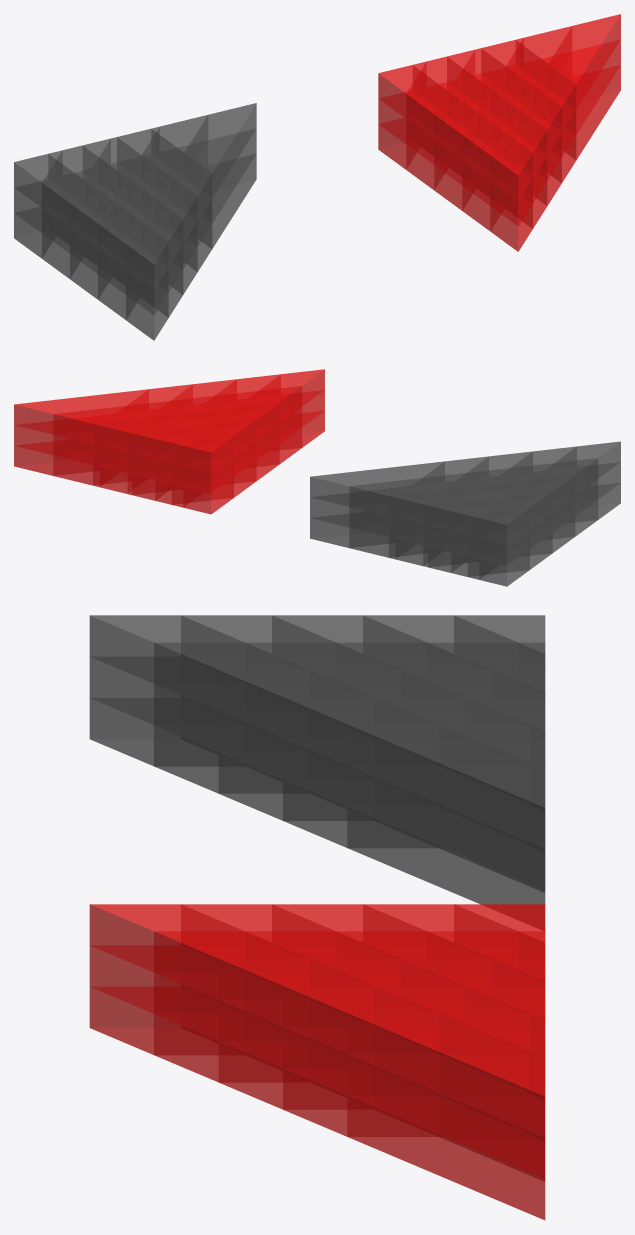
Rendered from Elements_Spatial_CellComplex_Serialization.glb.
3 views of the same model, one above another, from view 1: azimuth 30°, elevation 25°; view 2: azimuth 150°, elevation 25°; view 3: azimuth 270°, elevation 25° (orthographic). The views are drawn at different scales.
Visible parts, largest first — view 1: e4d5c8aa-01d7-4d28-95e4-11399ef93405_mesh, dad1de7e-0cb8-41cc-924f-251fbcd497fb_mesh, 2aa42397-048d-482f-854a-d5a3d99ed0bd_mesh, 3f16b0a3-ca01-451b-9d7c-0c4887617dc5_mesh, 7be73eec-b3d1-417d-8776-409addead193_mesh, b10e2be0-7715-41f9-a394-cac2937e3d9f_mesh, b778b9dc-4b3d-487a-9391-8c0a4c4b534e_mesh, 3b9fe1ae-8d29-4308-96e0-60f46bb77c62_mesh, 65f17673-047f-45be-bd58-b62c0768bc1d_mesh, 79738f5b-8642-4496-acfa-0e3bb97c4be8_mesh, 2dde2cfb-9650-4c7b-abae-d3e3957c964e_mesh, b13cf715-2f56-4611-9ba4-2bcb48121d2f_mesh (+122 smaller); view 2: 2dde2cfb-9650-4c7b-abae-d3e3957c964e_mesh, b13cf715-2f56-4611-9ba4-2bcb48121d2f_mesh, dad1de7e-0cb8-41cc-924f-251fbcd497fb_mesh, e4d5c8aa-01d7-4d28-95e4-11399ef93405_mesh, 2181d326-c104-43ea-8148-ed3e57d4df3f_mesh, 7b658dc2-4ed2-4b35-9fd0-d005eb027f1e_mesh, c6826c9e-1fd2-4056-b1b4-02c6869c6f5f_mesh, 0f73b839-daa0-4e07-a814-52f9c7183552_mesh, 21e804da-b728-465d-affa-cdf320d5f043_mesh, c14babd9-aa63-4fb5-8b03-bbbd38d783c0_mesh, 746344e8-de2f-4fc3-9825-49fac00f22c6_mesh, d484438f-89f5-4d8e-9ccd-c492db782908_mesh (+159 smaller); view 3: 3b9fe1ae-8d29-4308-96e0-60f46bb77c62_mesh, 2dde2cfb-9650-4c7b-abae-d3e3957c964e_mesh, b13cf715-2f56-4611-9ba4-2bcb48121d2f_mesh, 79738f5b-8642-4496-acfa-0e3bb97c4be8_mesh, 65f17673-047f-45be-bd58-b62c0768bc1d_mesh, b778b9dc-4b3d-487a-9391-8c0a4c4b534e_mesh, e4d5c8aa-01d7-4d28-95e4-11399ef93405_mesh, dad1de7e-0cb8-41cc-924f-251fbcd497fb_mesh, 2aa42397-048d-482f-854a-d5a3d99ed0bd_mesh, 45b2ae97-7e96-46b7-935d-fa0c843ecbca_mesh, f68b9eff-fab6-4033-8fc4-3e5ad00b2baa_mesh, fe83ae7e-f485-4742-a042-82a1fbf6b827_mesh (+162 smaller).
Part boxes in pixels (<box>): e4d5c8aa-01d7-4d28-95e4-11399ef93405_mesh: <box>184,103,256,172</box>; dad1de7e-0cb8-41cc-924f-251fbcd497fb_mesh: <box>548,14,620,83</box>; 2aa42397-048d-482f-854a-d5a3d99ed0bd_mesh: <box>560,40,619,108</box>; 3f16b0a3-ca01-451b-9d7c-0c4887617dc5_mesh: <box>195,129,255,197</box>; 7be73eec-b3d1-417d-8776-409addead193_mesh: <box>208,103,256,139</box>; b10e2be0-7715-41f9-a394-cac2937e3d9f_mesh: <box>572,14,620,50</box>; b778b9dc-4b3d-487a-9391-8c0a4c4b534e_mesh: <box>212,154,256,248</box>; 3b9fe1ae-8d29-4308-96e0-60f46bb77c62_mesh: <box>576,40,620,134</box>; 65f17673-047f-45be-bd58-b62c0768bc1d_mesh: <box>576,65,620,159</box>; 79738f5b-8642-4496-acfa-0e3bb97c4be8_mesh: <box>212,129,256,222</box>; 2dde2cfb-9650-4c7b-abae-d3e3957c964e_mesh: <box>576,14,620,108</box>; b13cf715-2f56-4611-9ba4-2bcb48121d2f_mesh: <box>212,104,256,197</box>; 2dde2cfb-9650-4c7b-abae-d3e3957c964e_mesh: <box>14,389,147,424</box>; b13cf715-2f56-4611-9ba4-2bcb48121d2f_mesh: <box>310,462,443,496</box>; dad1de7e-0cb8-41cc-924f-251fbcd497fb_mesh: <box>14,389,148,413</box>; e4d5c8aa-01d7-4d28-95e4-11399ef93405_mesh: <box>311,461,444,486</box>; 2181d326-c104-43ea-8148-ed3e57d4df3f_mesh: <box>349,478,421,506</box>; 7b658dc2-4ed2-4b35-9fd0-d005eb027f1e_mesh: <box>53,406,125,434</box>; c6826c9e-1fd2-4056-b1b4-02c6869c6f5f_mesh: <box>486,508,529,533</box>; 0f73b839-daa0-4e07-a814-52f9c7183552_mesh: <box>190,436,233,460</box>; 21e804da-b728-465d-affa-cdf320d5f043_mesh: <box>53,455,92,485</box>; c14babd9-aa63-4fb5-8b03-bbbd38d783c0_mesh: <box>349,507,388,536</box>; 746344e8-de2f-4fc3-9825-49fac00f22c6_mesh: <box>349,486,388,516</box>; d484438f-89f5-4d8e-9ccd-c492db782908_mesh: <box>53,414,92,444</box>; 3b9fe1ae-8d29-4308-96e0-60f46bb77c62_mesh: <box>347,1054,545,1178</box>; 2dde2cfb-9650-4c7b-abae-d3e3957c964e_mesh: <box>347,1013,545,1137</box>; b13cf715-2f56-4611-9ba4-2bcb48121d2f_mesh: <box>347,724,545,848</box>; 79738f5b-8642-4496-acfa-0e3bb97c4be8_mesh: <box>347,766,545,889</box>; 65f17673-047f-45be-bd58-b62c0768bc1d_mesh: <box>347,1096,545,1219</box>; b778b9dc-4b3d-487a-9391-8c0a4c4b534e_mesh: <box>347,807,545,904</box>; e4d5c8aa-01d7-4d28-95e4-11399ef93405_mesh: <box>348,724,545,807</box>; dad1de7e-0cb8-41cc-924f-251fbcd497fb_mesh: <box>348,1013,545,1096</box>; 2aa42397-048d-482f-854a-d5a3d99ed0bd_mesh: <box>349,1054,544,1137</box>; 45b2ae97-7e96-46b7-935d-fa0c843ecbca_mesh: <box>349,1137,544,1219</box>; f68b9eff-fab6-4033-8fc4-3e5ad00b2baa_mesh: <box>349,807,544,889</box>; fe83ae7e-f485-4742-a042-82a1fbf6b827_mesh: <box>350,1096,544,1178</box>.
Size of the model in its own units: 125 by 15 by 50.
